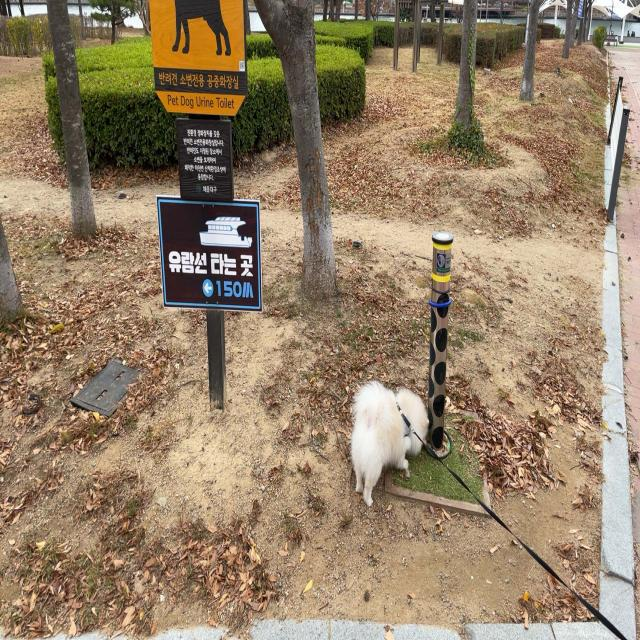Dog: (351, 381, 430, 506)
